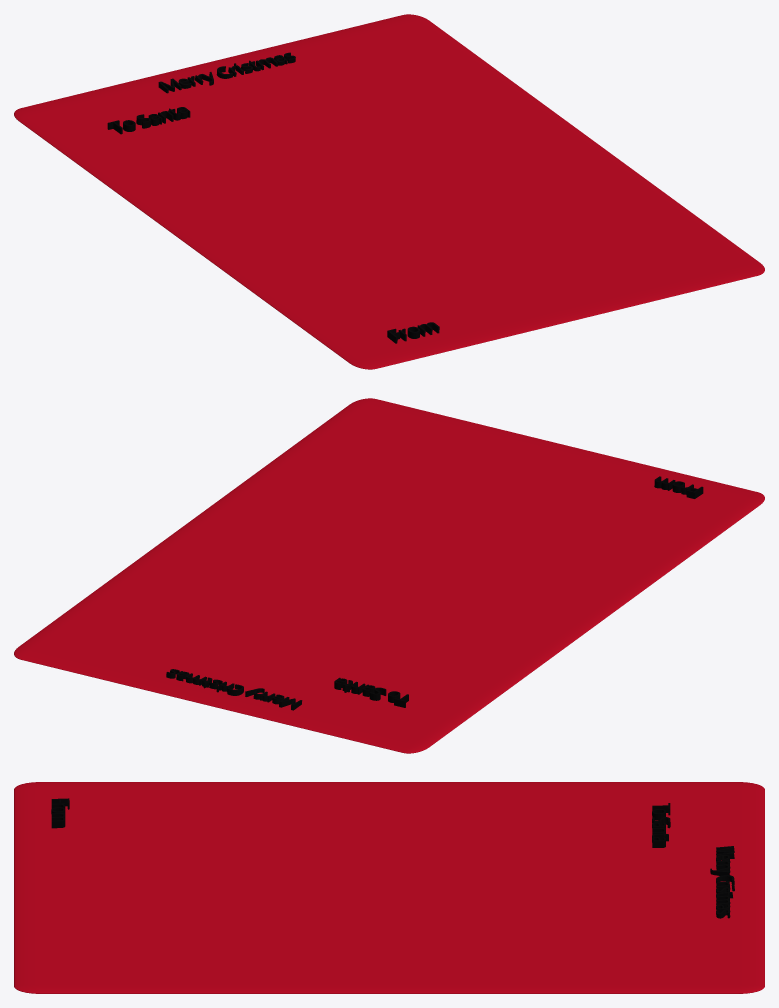
File: letter_write.glb
The picture shows the model from 3 angles, top to bottom: view 1: azimuth 30°, elevation 25°; view 2: azimuth 150°, elevation 25°; view 3: azimuth 270°, elevation 25°; orthographic projection. The views are drawn at different scales.
Visible parts, largest first — view 1: Merged Objects, Merged Objects 2; view 2: Merged Objects, Merged Objects 2; view 3: Merged Objects, Merged Objects 2.
Part boxes in pixels (x1,y1,x2,y2): Merged Objects: (14,14,764,369); Merged Objects 2: (158,52,295,93); Merged Objects: (14,398,764,753); Merged Objects 2: (166,669,302,710); Merged Objects: (14,782,764,993); Merged Objects 2: (710,846,734,918).
Bounding box in the file's own units: 1 × 0.0263 × 1.5.
